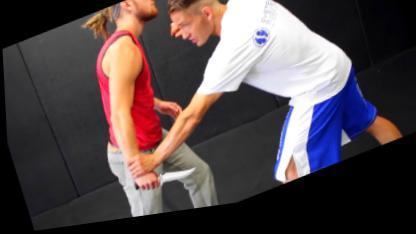knife: (126, 158, 198, 204)
